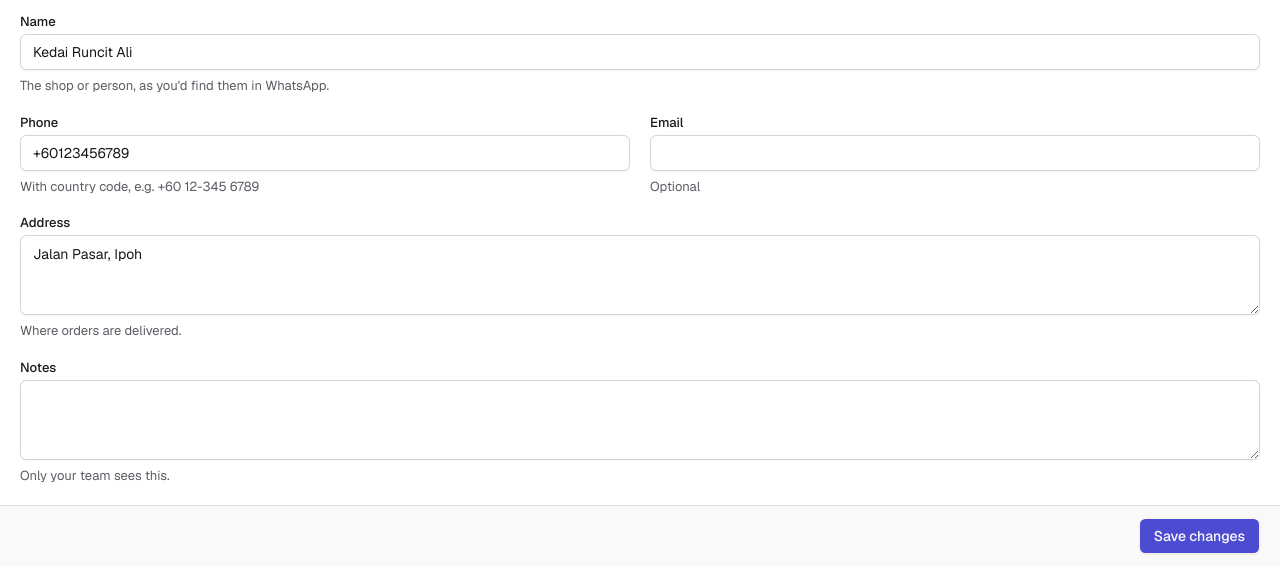
it: CustomerForm › prefills an existing customer and confirms a save
Expected: the field labelled "Name" holds "Kedai Runcit Ali", x1=20 y1=34 x2=1260 y2=70
Expected: the text box labelled "Address" holds "Jalan Pasar, Ipoh", x1=20 y1=235 x2=1260 y2=315
Click the button "Save changes".
click(1199, 536)  # box x1=1139 y1=518 x2=1260 y2=554
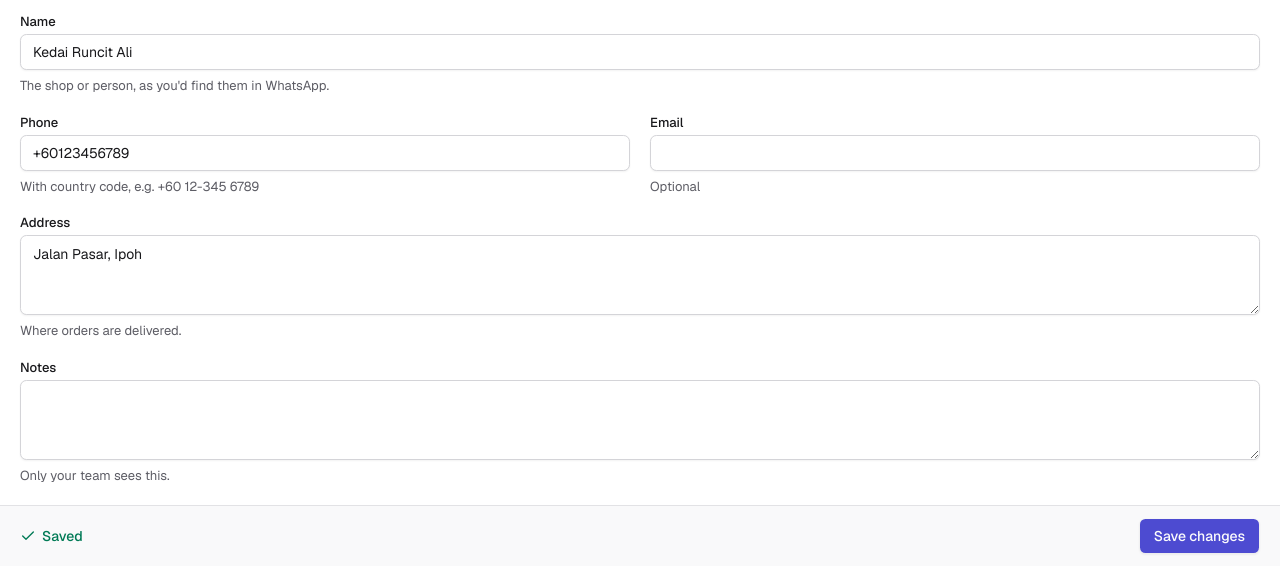
Result: the message reads "Saved" at x1=42 y1=527 x2=83 y2=545
